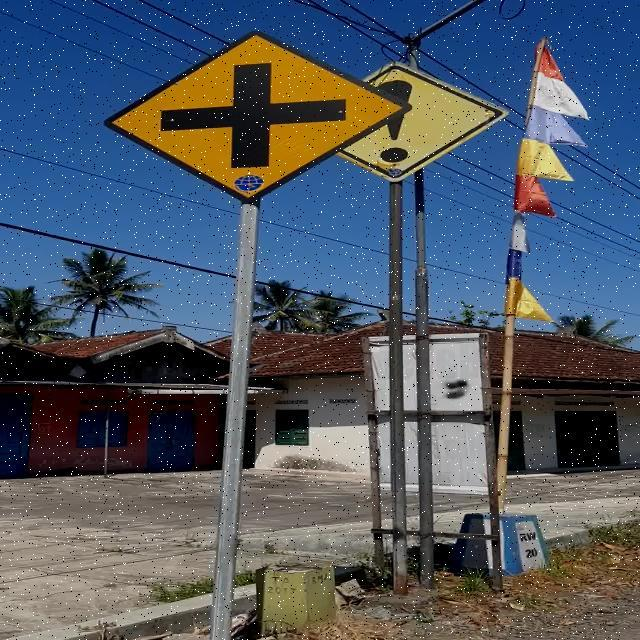Persimpangan 4: (104, 30, 412, 202)
